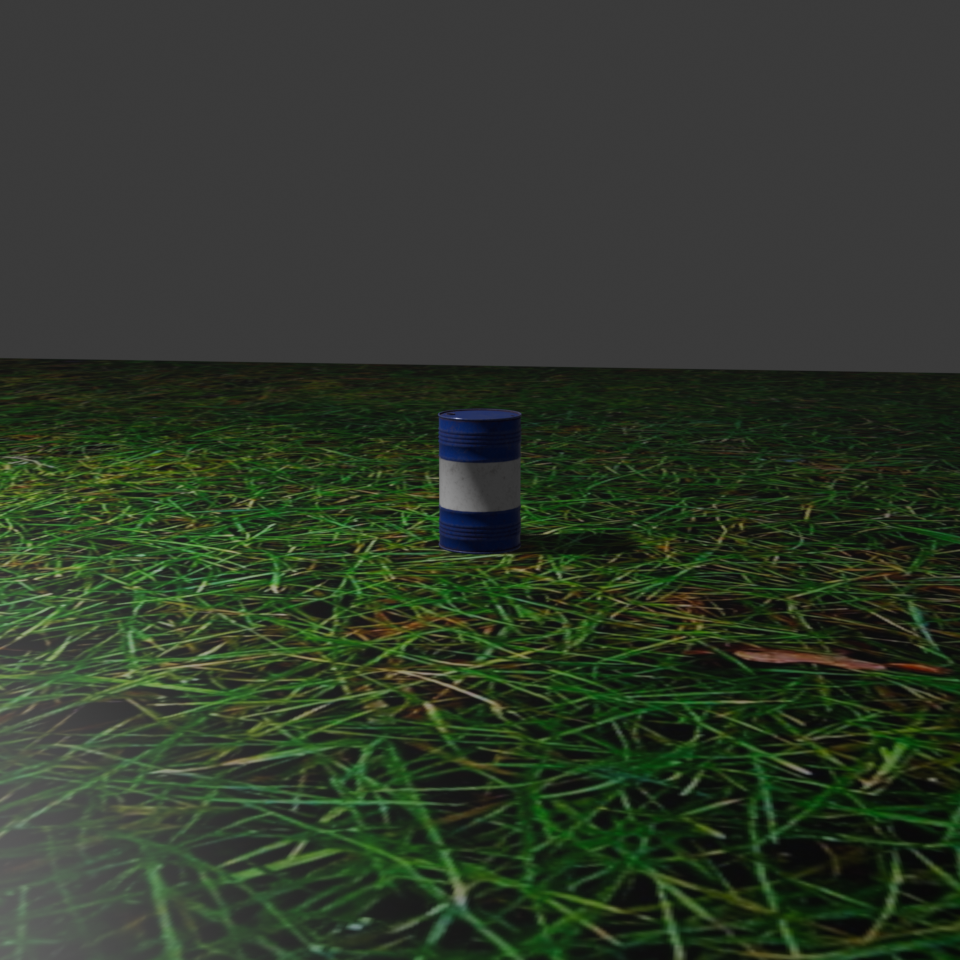circle: (432, 403, 524, 552)
